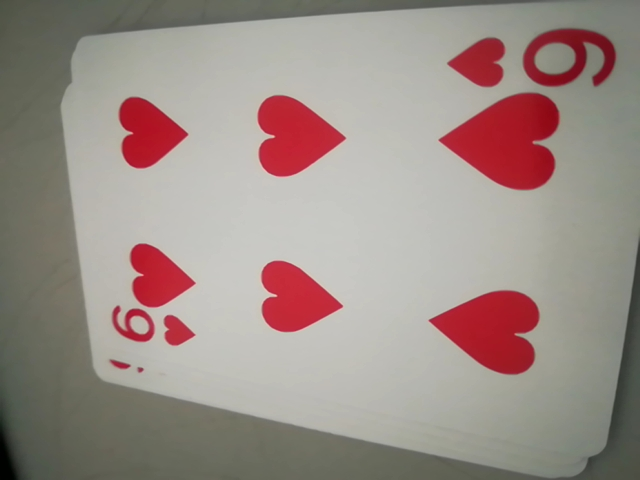hx 6: (445, 20, 618, 99), (104, 303, 194, 366)
